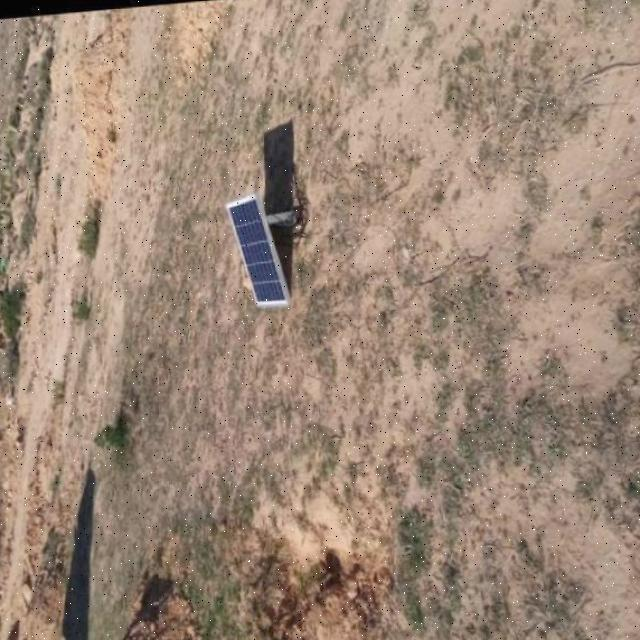Normal Solar Panel: (224, 186, 286, 306)
